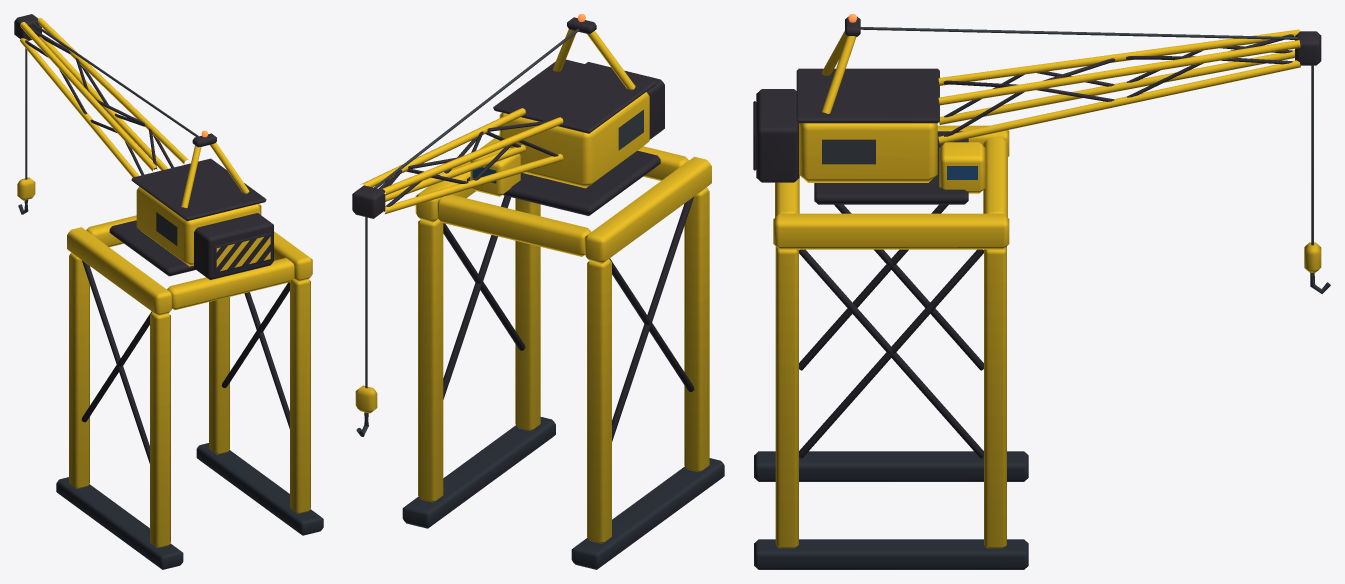
File: harbour-crane.glb
3 views of the same model, side by side, from view 1: azimuth 30°, elevation 25°; view 2: azimuth 150°, elevation 25°; view 3: azimuth 270°, elevation 25° (orthographic). The views are drawn at different scales.
Parts seen in each view (by area): view 1: harbour-crane Hazard yellow, harbour-crane Ashen charcoal, harbour-crane Gunmetal; view 2: harbour-crane Hazard yellow, harbour-crane Ashen charcoal, harbour-crane Gunmetal; view 3: harbour-crane Hazard yellow, harbour-crane Ashen charcoal, harbour-crane Gunmetal.
Part boxes in pixels (x1=…): harbour-crane Hazard yellow: x1=17, y1=18, x2=312, y2=547; harbour-crane Ashen charcoal: x1=14, y1=14, x2=289, y2=463; harbour-crane Gunmetal: x1=18, y1=22, x2=323, y2=569; harbour-crane Hazard yellow: x1=355, y1=29, x2=711, y2=543; harbour-crane Ashen charcoal: x1=352, y1=17, x2=694, y2=441; harbour-crane Gunmetal: x1=356, y1=29, x2=724, y2=569; harbour-crane Hazard yellow: x1=773, y1=29, x2=1321, y2=548; harbour-crane Ashen charcoal: x1=753, y1=16, x2=1321, y2=458; harbour-crane Gunmetal: x1=754, y1=27, x2=1330, y2=569.
Size of the model in its own units: 3.16 by 7.24 by 7.49.
5 materials, 3 textured.
